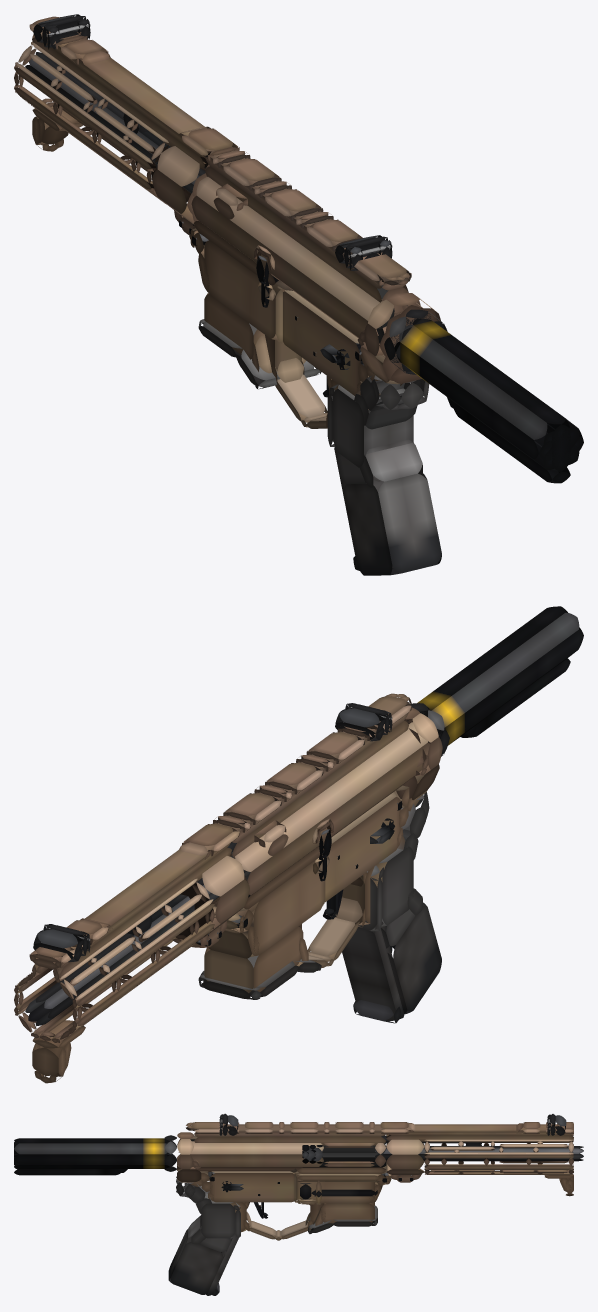
The model's file is udp_9.fbx.
The picture shows the model from 3 angles, top to bottom: view 1: azimuth 30°, elevation 25°; view 2: azimuth 150°, elevation 25°; view 3: azimuth 270°, elevation 25°; orthographic projection. The views are drawn at different scales.
Visible parts, largest first — view 1: cube_141, cube_2, cube_70, cube_106, cube_7, cube_75, cube_217, cube_103, cube_105, cube_128, cube_26, cube_135 (+23 smaller); view 2: cube_2, cube_70, cube_7, cube_75, cube_217, cube_106, cube_141, cube_133, cube_76, cube_105, cube_103, cube_26 (+30 smaller); view 3: cube_70, cube_141, cube_104, cube_105, cube_217, cube_16, cube_15, cube_26, cube_128, cube_37, cube_75, cube_27 (+32 smaller).
Boxes of the visible parts, x1,y1,x2,y2 form: cube_141: (343,471,441,575); cube_2: (196,176,394,328); cube_70: (283,290,380,395); cube_106: (399,324,579,464); cube_7: (191,195,384,343); cube_75: (204,240,284,340); cube_217: (42,31,214,157); cube_103: (413,318,570,471); cube_105: (394,342,583,460); cube_128: (332,385,413,467); cube_26: (205,164,408,302); cube_135: (359,443,422,487); cube_2: (231,722,427,875); cube_70: (322,792,401,902); cube_7: (244,743,430,895); cube_75: (236,860,325,956); cube_217: (32,842,230,969); cube_106: (425,612,579,732); cube_141: (384,902,441,1014); cube_133: (342,922,404,1020); cube_76: (204,926,303,993); cube_105: (440,627,583,744); cube_103: (417,606,567,712); cube_26: (227,719,408,858); cube_70: (210,1171,297,1202); cube_141: (168,1229,224,1294); cube_104: (14,1143,168,1156); cube_105: (14,1154,167,1164); cube_217: (387,1124,573,1135); cube_16: (190,1154,323,1166); cube_15: (190,1141,323,1154); cube_26: (194,1131,386,1145); cube_128: (201,1193,235,1238); cube_37: (194,1124,385,1136); cube_75: (297,1173,374,1203); cube_27: (297,1157,386,1174).
Bounding box in the file's own units: 13.48 × 52.86 × 158.
Materials: 1 (1 with a texture image).
